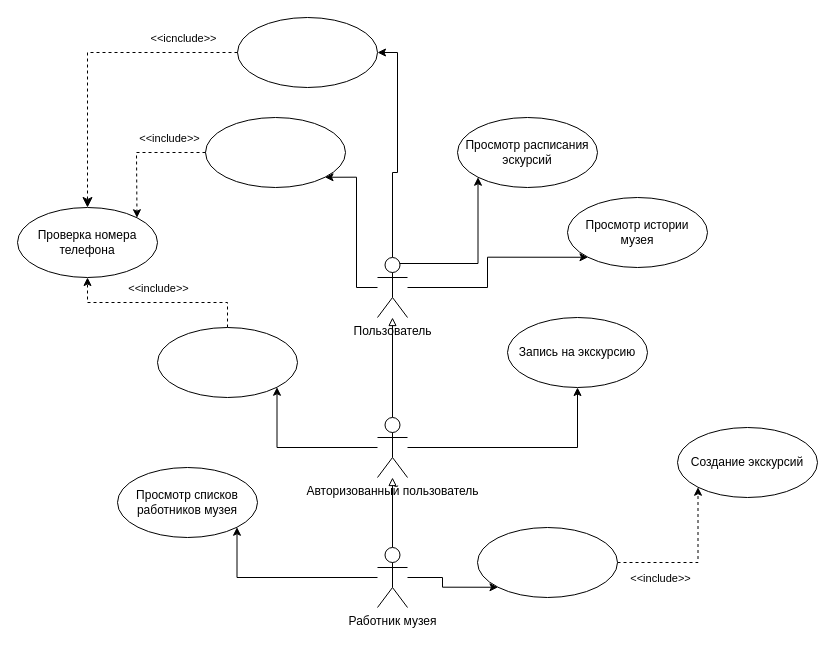
This 835x646 diagram has some shape labels left out. Here are the shapes that lost their labels. From the top down, the centre of each, then its label:
At point (307, 52): "Регистрация".
At point (275, 152): "Вход".
At point (227, 362): "Настройка профиля".
At point (547, 562): "Работа с экскурсиями".
